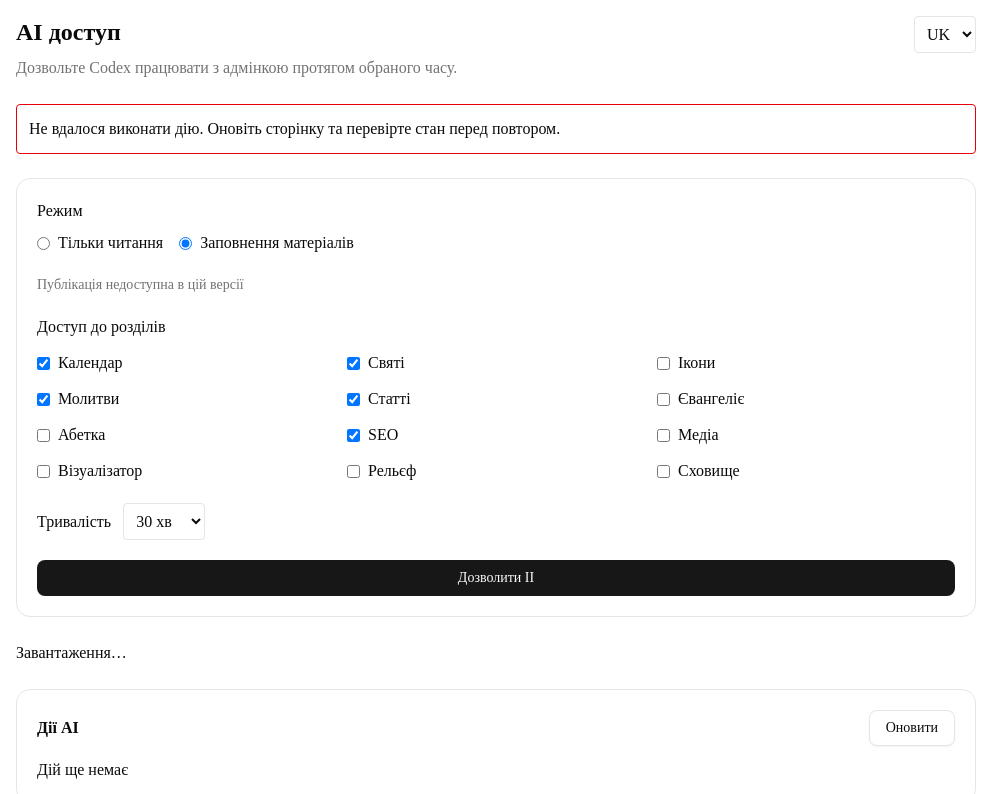
clears a recovered read error and shows activity entity and outcome
Expected: the text "Не вдалося виконати дію. Оновіть сторінку та перевірте стан перед повтором." is shown, [16,104,976,154]
Step 1. Click the button "Оновити" → (912, 728), box [869,710,955,746]
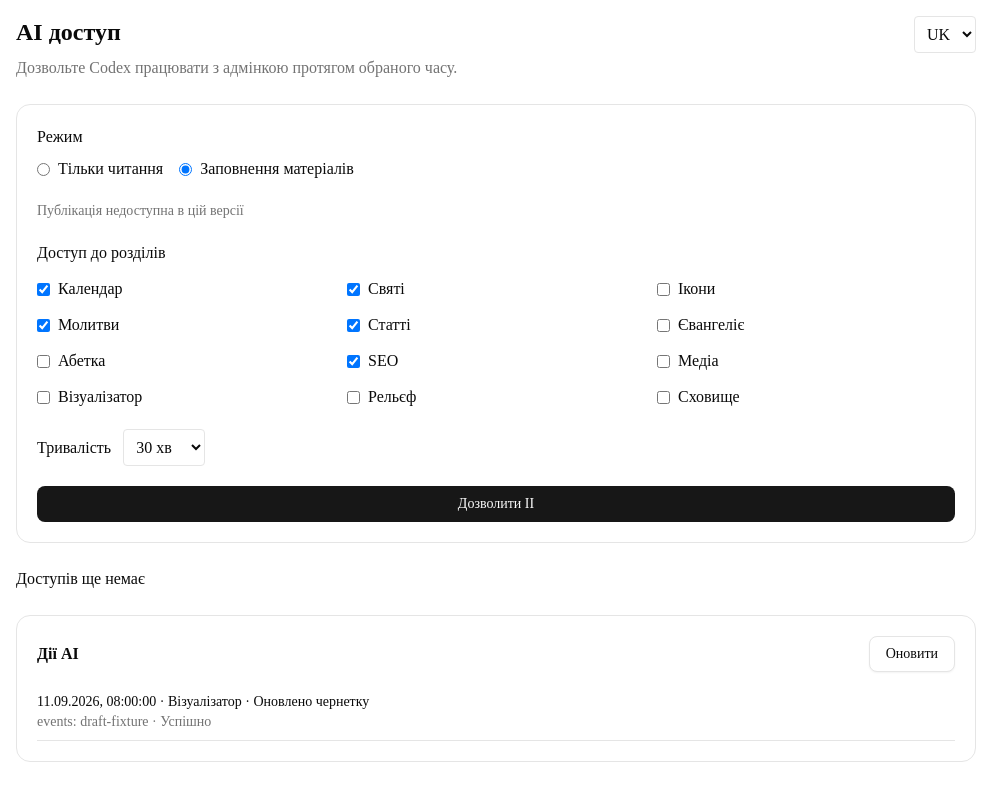
Expected: the text "Не вдалося виконати дію. Оновіть сторінку та перевірте стан перед повтором." is gone
Expected: the text "events: draft-fixture · Успішно" is shown, [37,714,211,729]
Expected: the text "11.09.2026, 08:00:00 · Візуалізатор · Оновлено чернетку" is shown, [37,694,369,709]
